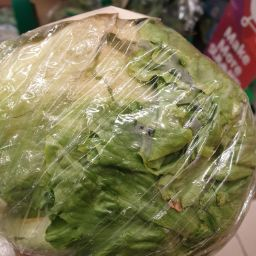Lettuce: (1, 6, 214, 256), (21, 51, 246, 228), (109, 72, 217, 225)
